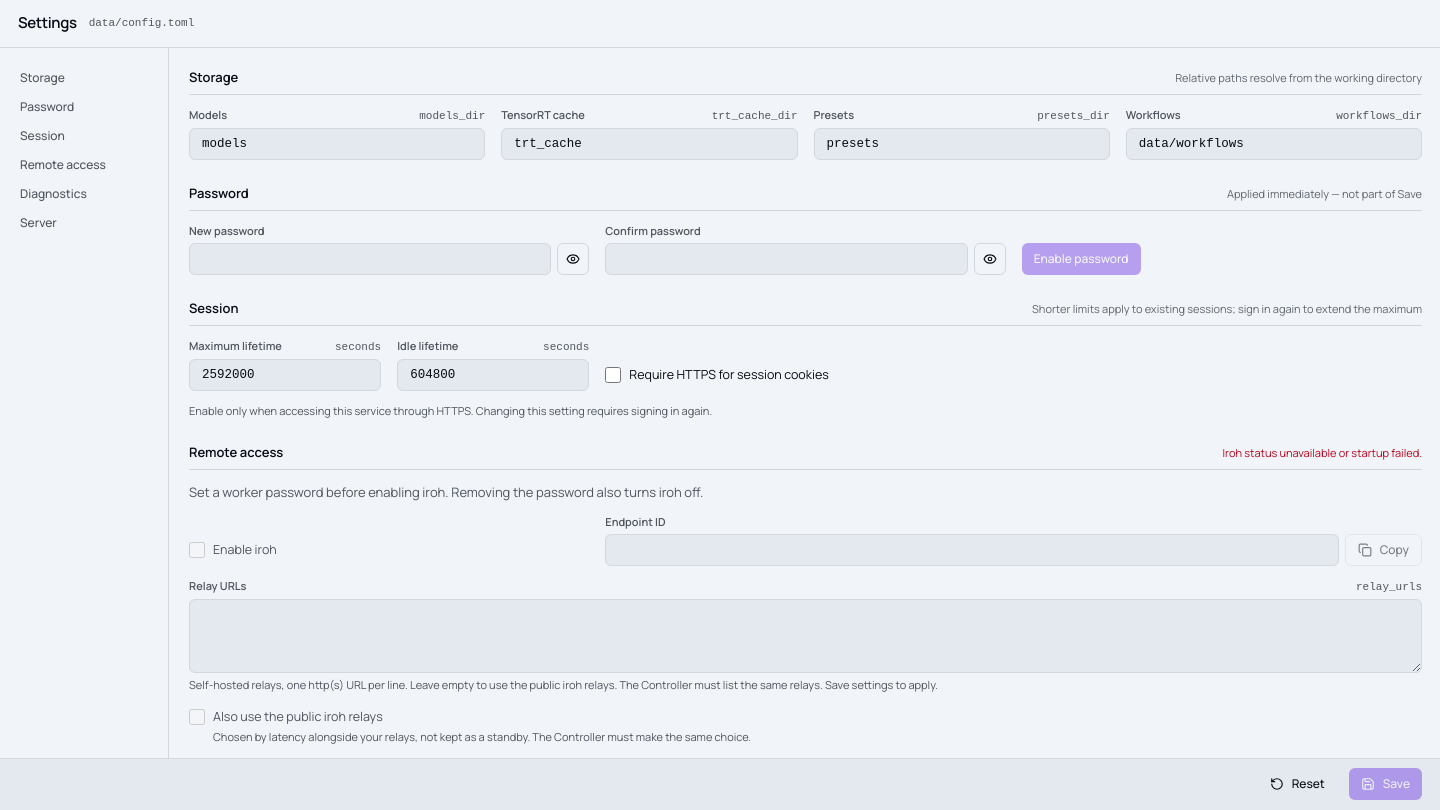
SettingsPage profiling toggle › reloads and says so when the settings changed elsewhere
Replace the text in the field labelled "Models models_dir" with "other-models" at (337, 144), box [189,128,485,160]
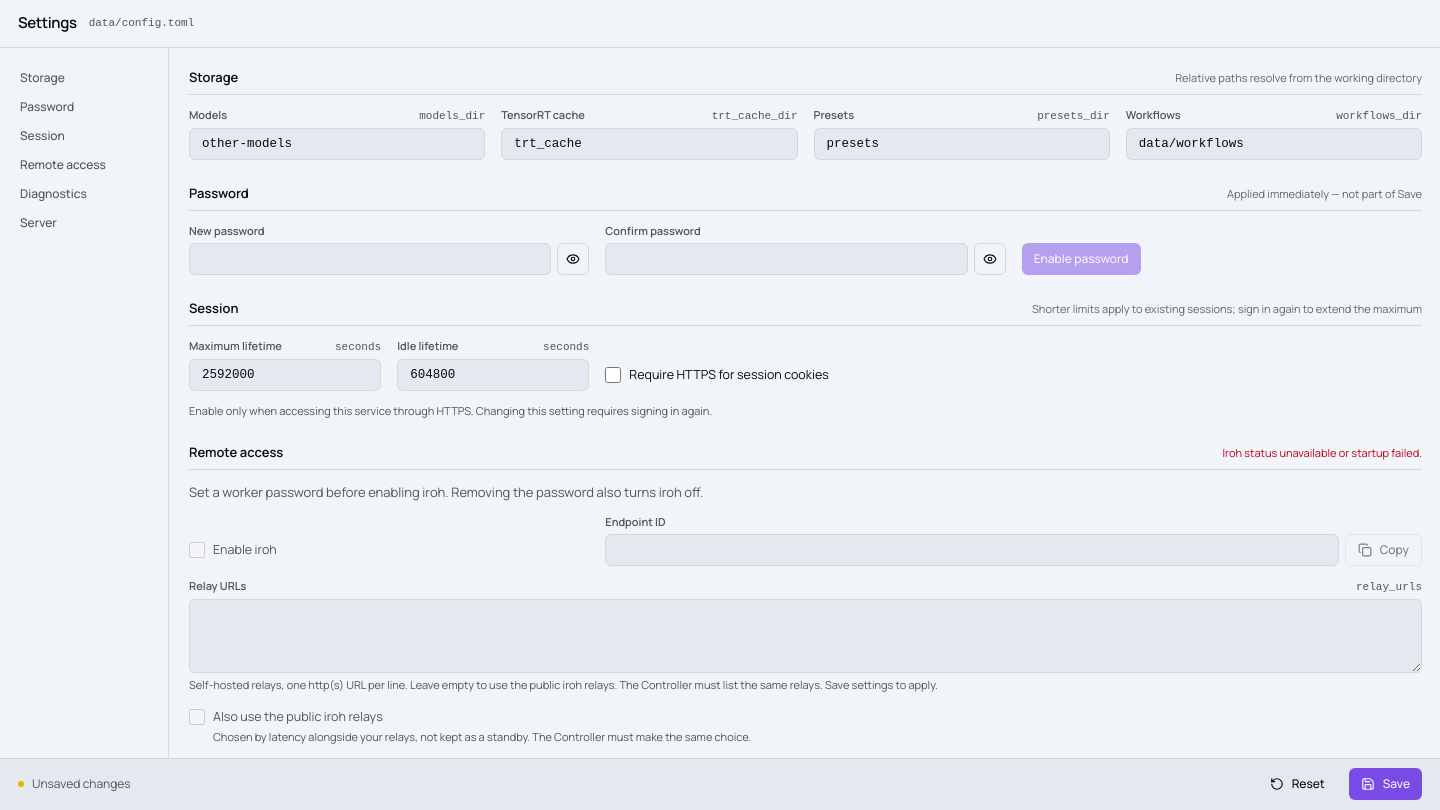
Click the button "Save" at (1385, 784), box [1349,768,1422,800]
(page scrolled)
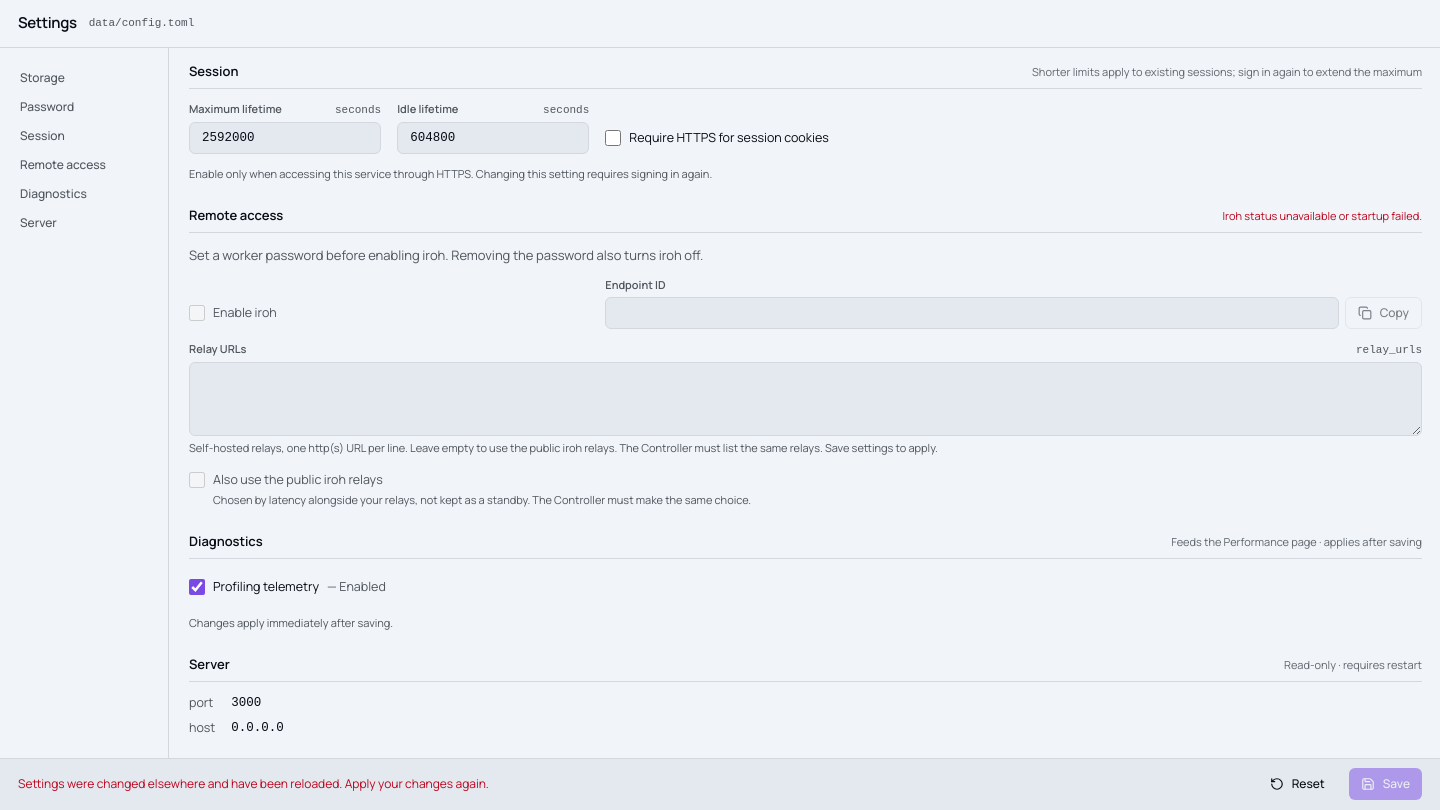
Expected: the text "Settings were changed elsewhere and have been reloaded. Apply your changes again." is shown, [18,775,489,792]
Expected: the checkbox labelled "Profiling telemetry" is checked, [189,579,205,595]
